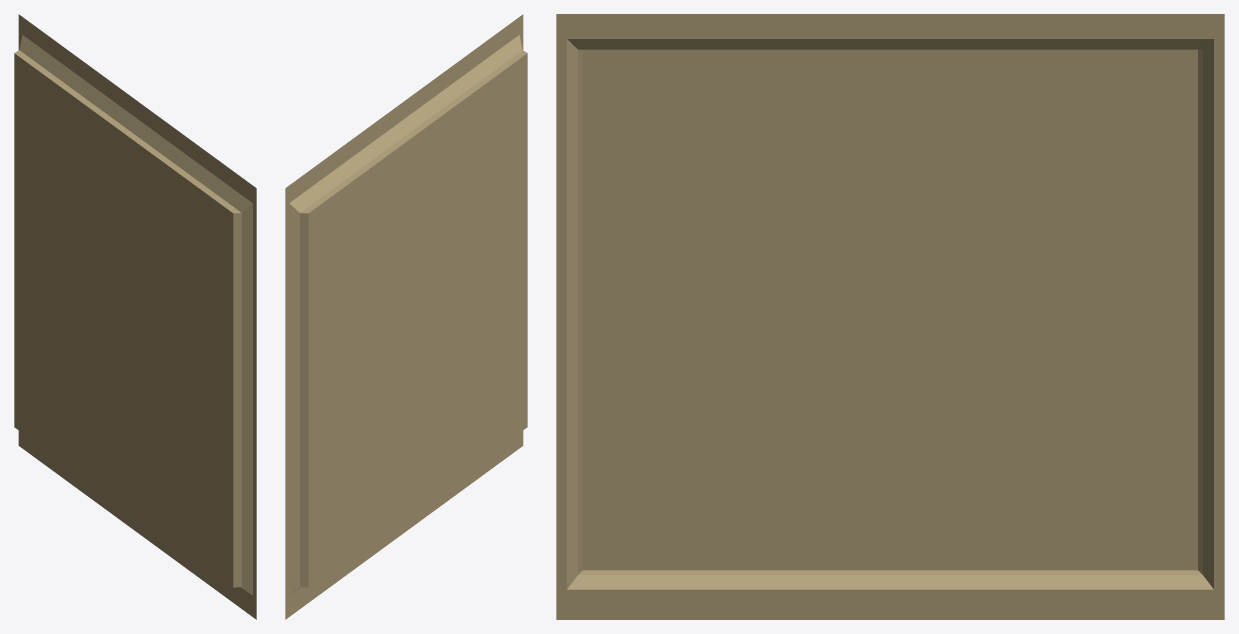
The model's file is Maze_BlankWall.fbx.
3 views of the same model, side by side, from view 1: azimuth 30°, elevation 25°; view 2: azimuth 150°, elevation 25°; view 3: azimuth 270°, elevation 25° (orthographic). The views are drawn at different scales.
Visible parts, largest first — view 1: pPlane2; view 2: pPlane2; view 3: pPlane2.
Boxes of the visible parts, x1,y1,x2,y2 form: pPlane2: (14, 14, 256, 619); pPlane2: (285, 14, 527, 619); pPlane2: (556, 14, 1224, 619).
Size of the model in its own units: 10 by 300 by 300.
